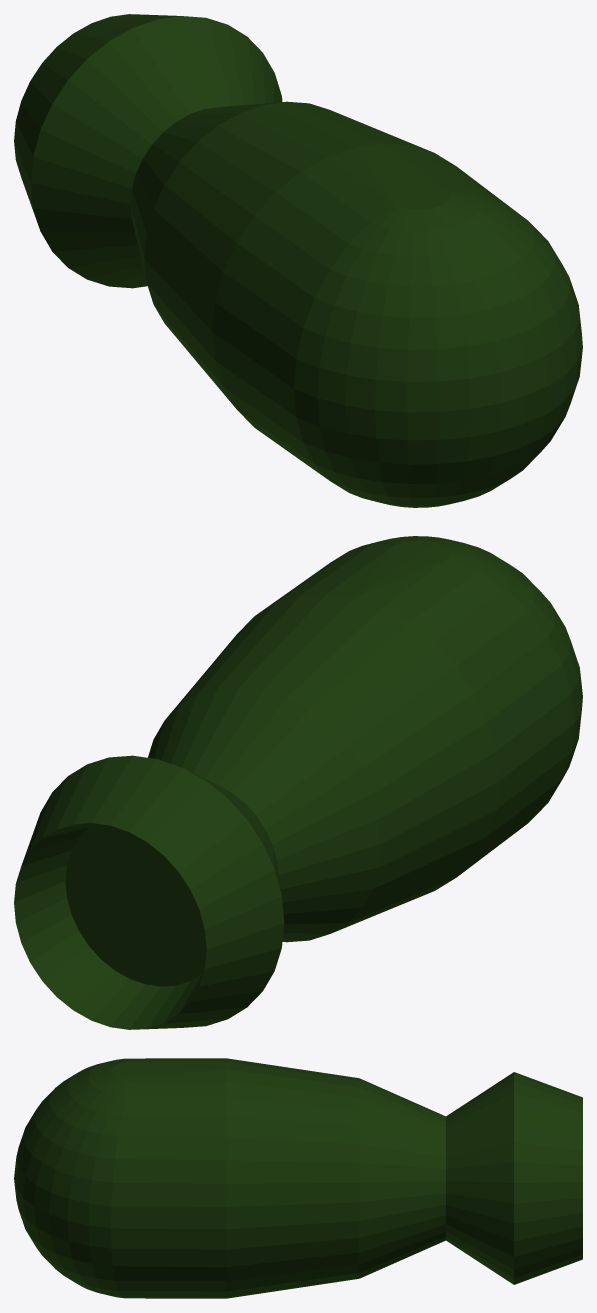
The model's file is Bomb.fbx.
3 renders of one model, top to bottom at view 1: azimuth 30°, elevation 25°; view 2: azimuth 150°, elevation 25°; view 3: azimuth 270°, elevation 25°, orthographic. The views are drawn at different scales.
Visible parts, largest first — view 1: Sphere; view 2: Sphere; view 3: Sphere.
Boxes of the visible parts, <box> form: Sphere: <box>14,14,582,507</box>; Sphere: <box>14,536,582,1029</box>; Sphere: <box>14,1058,582,1298</box>.
Size of the model in its own units: 271 by 271 by 640.
